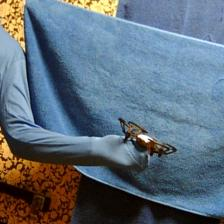drone: (119, 117, 178, 160)
